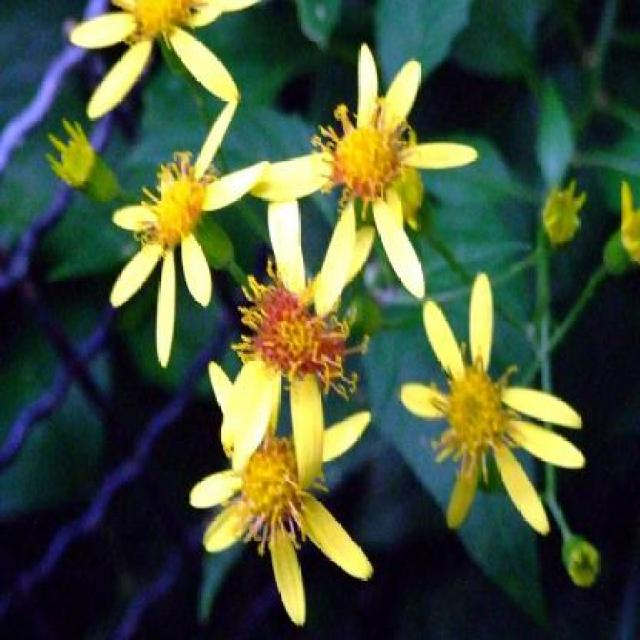flower: (214, 358, 392, 616), (292, 42, 468, 301), (424, 269, 582, 549), (222, 180, 364, 486), (96, 136, 250, 347), (84, 0, 253, 111)
